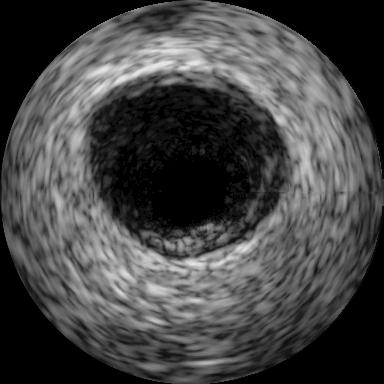Lumen: (146, 147, 234, 236)
